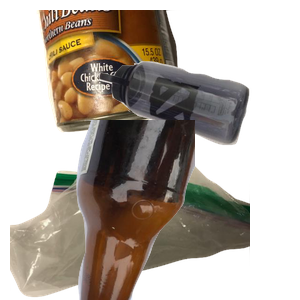glass: (60, 120, 300, 300)
metal: (34, 10, 213, 135)
plastic: (97, 59, 300, 197)
trash: (10, 134, 250, 300)
